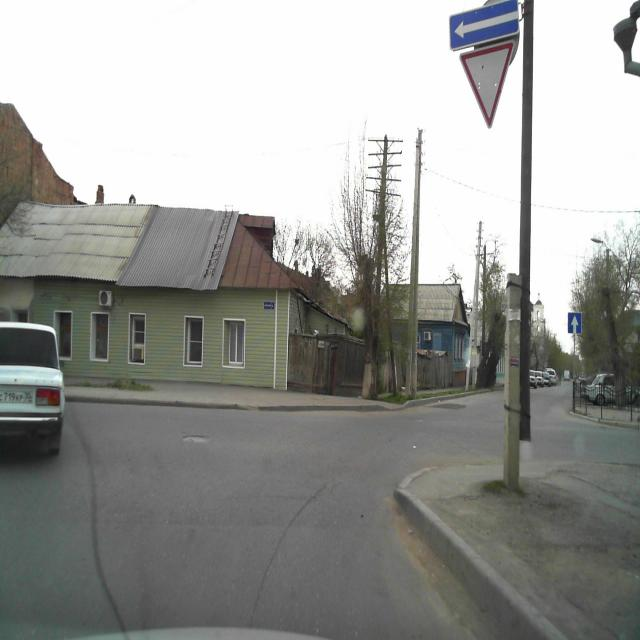road sign: (457, 43, 515, 132), (449, 1, 521, 48), (567, 308, 583, 336)
